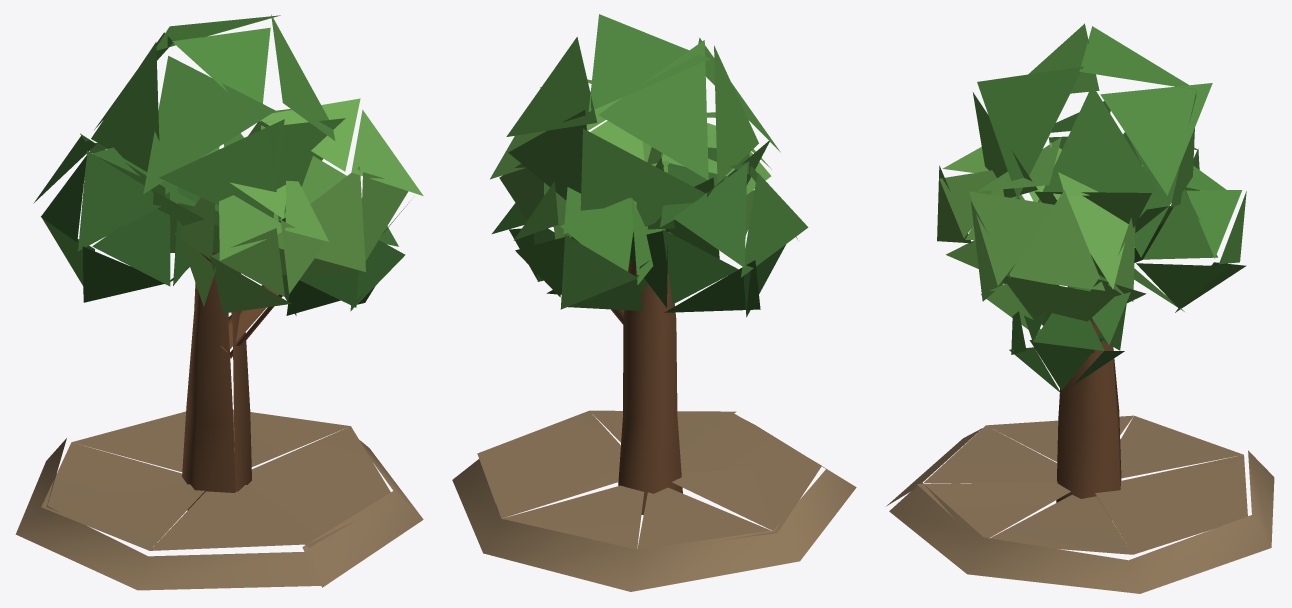
File: low-poly-tree.glb
3 renders of one model, left to right at view 1: azimuth 30°, elevation 25°; view 2: azimuth 150°, elevation 25°; view 3: azimuth 270°, elevation 25°, orthographic. The views are drawn at different scales.
Visible parts, largest first — view 1: ground_mound, foliage_top, foliage_west, foliage_south, foliage_east, trunk, foliage_branch, branch; view 2: ground_mound, foliage_top, foliage_west, foliage_north, trunk, foliage_east, foliage_south, foliage_branch; view 3: ground_mound, foliage_top, foliage_east, foliage_north, trunk, foliage_branch, foliage_south, foliage_west.
Part boxes in pixels (x1=…): ground_mound: x1=15, y1=409, x2=423, y2=590; foliage_top: x1=80, y1=14, x2=345, y2=252; foliage_west: x1=33, y1=136, x2=219, y2=302; foliage_south: x1=174, y1=181, x2=328, y2=313; foliage_east: x1=248, y1=98, x2=423, y2=274; trunk: x1=182, y1=252, x2=251, y2=510; foliage_branch: x1=279, y1=197, x2=405, y2=315; branch: x1=220, y1=285, x2=282, y2=358; ground_mound: x1=452, y1=410, x2=856, y2=591; foliage_top: x1=506, y1=14, x2=780, y2=258; foliage_west: x1=630, y1=147, x2=808, y2=317; foliage_north: x1=513, y1=181, x2=672, y2=310; trunk: x1=618, y1=259, x2=682, y2=514; foliage_east: x1=490, y1=79, x2=671, y2=242; foliage_south: x1=647, y1=112, x2=771, y2=235; foliage_branch: x1=492, y1=182, x2=561, y2=294; ground_mound: x1=886, y1=415, x2=1274, y2=593; foliage_top: x1=973, y1=23, x2=1212, y2=278; foliage_east: x1=969, y1=137, x2=1146, y2=335; foliage_north: x1=1134, y1=165, x2=1246, y2=312; trunk: x1=1056, y1=286, x2=1121, y2=519; foliage_branch: x1=1009, y1=275, x2=1133, y2=393; foliage_south: x1=937, y1=147, x2=1055, y2=283; foliage_west: x1=1048, y1=101, x2=1200, y2=262.
Bounding box in the file's own units: 1.96 × 2.55 × 1.93.
